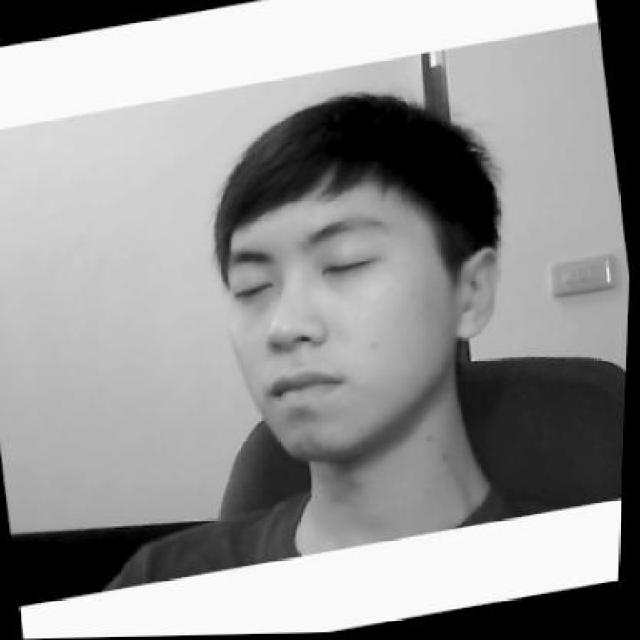inattentif: (188, 67, 530, 478)
